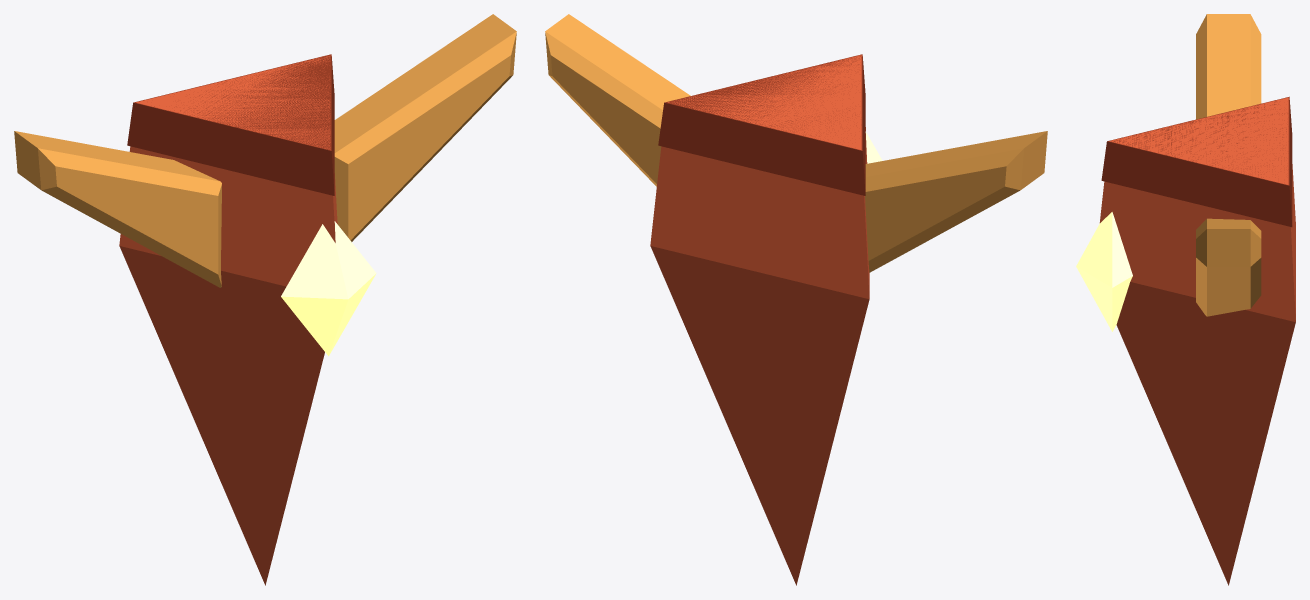
Rendered from diver.glb.
3 views of the same model, side by side, from view 1: azimuth 30°, elevation 25°; view 2: azimuth 150°, elevation 25°; view 3: azimuth 270°, elevation 25° (orthographic). The views are drawn at different scales.
Visible parts, largest first — view 1: body, wing_R, wing_L, eye; view 2: body, wing_L, wing_R; view 3: body, wing_L, wing_R, eye.
Boxes of the visible parts, x1,y1,x2,y2 form: body: (119,54,337,585); wing_R: (334,14,516,241); wing_L: (14,131,221,287); eye: (281,221,376,356); body: (650,54,869,585); wing_L: (865,131,1047,272); wing_R: (545,14,690,186); body: (1099,96,1295,585); wing_L: (1196,14,1261,119); wing_R: (1196,218,1261,316); eye: (1076,212,1132,331).
Bounding box in the file's own units: 14 × 14.1 × 6.05.
